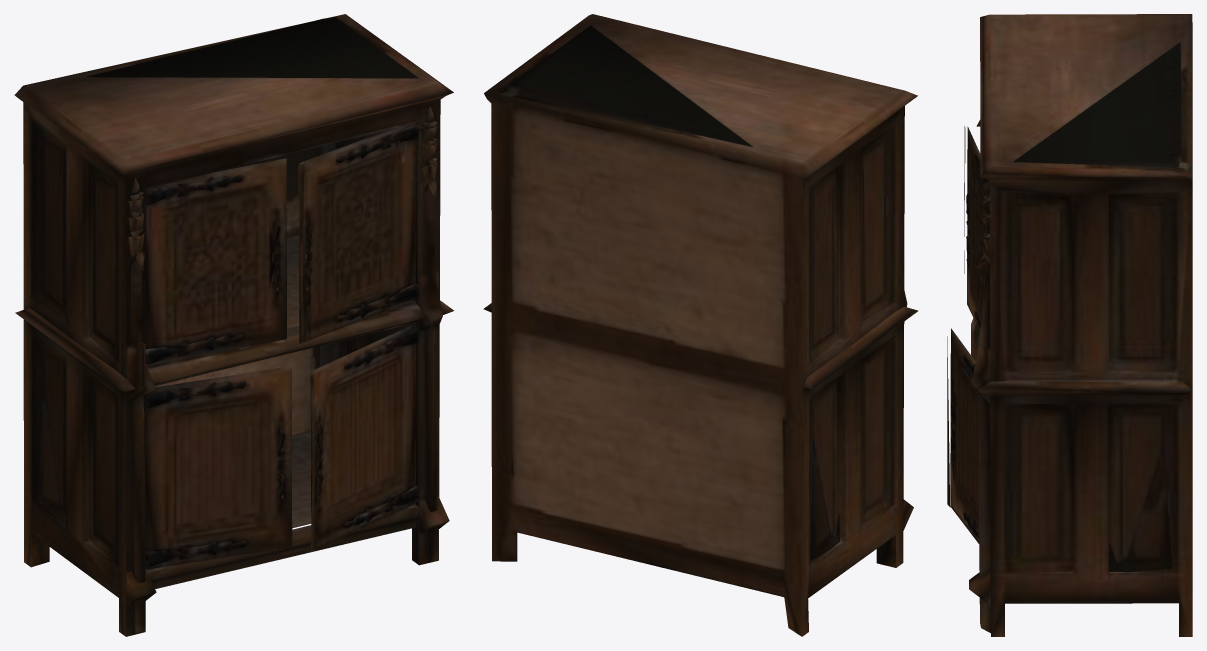
Rendered from wardrobe.glb.
The picture shows the model from 3 angles, left to right: view 1: azimuth 30°, elevation 25°; view 2: azimuth 150°, elevation 25°; view 3: azimuth 270°, elevation 25°; orthographic projection.
Parts seen in each view (by area): view 1: lo; view 2: lo; view 3: lo.
Part boxes in pixels (x1,y1,x2,y2): lo: (14,14,453,636); lo: (483,14,918,636); lo: (947,14,1192,636).
Size of the model in its own units: 1.72 by 2.36 by 1.11.
Materials: 1 (1 with a texture image).
